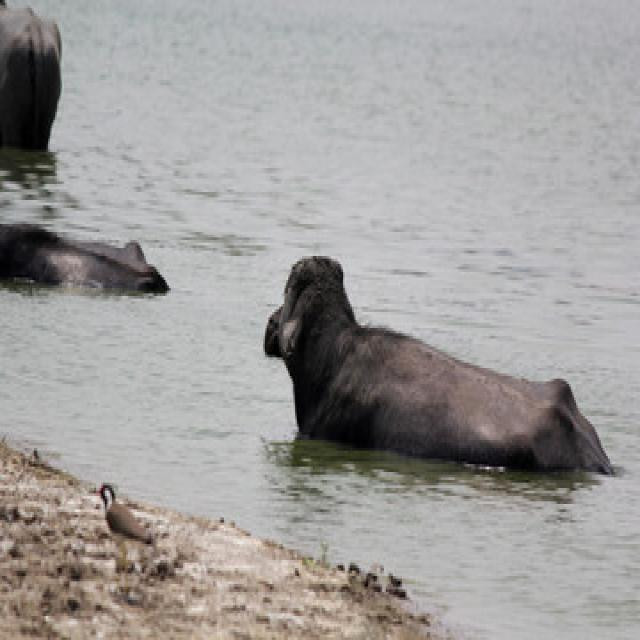Buffalo: (260, 247, 614, 468)
